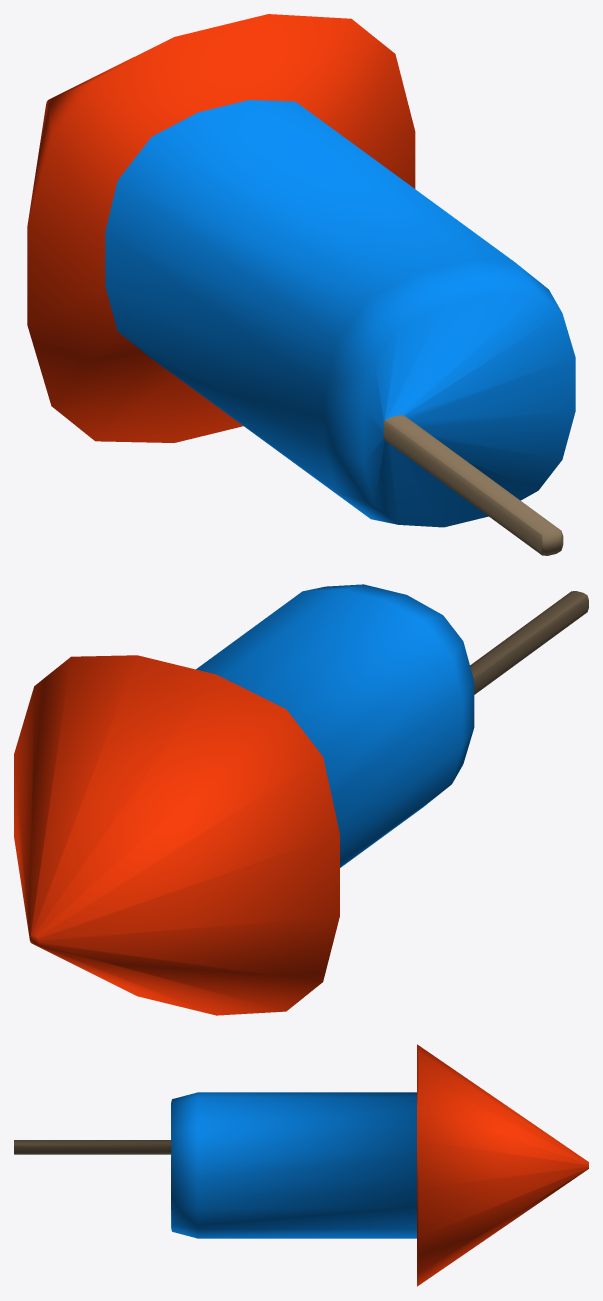
Rendered from item-firework.glb.
3 views of the same model, one above another, from view 1: azimuth 30°, elevation 25°; view 2: azimuth 150°, elevation 25°; view 3: azimuth 270°, elevation 25° (orthographic). The views are drawn at different scales.
Bounding box in the file's own units: 3.28 × 3.28 × 8.41.
